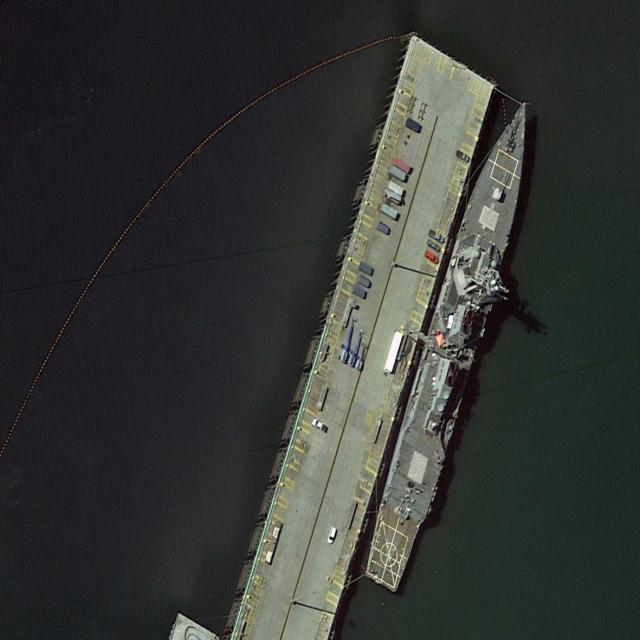Destroyer: (359, 84, 545, 599)
